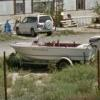Boat: (7, 32, 91, 69)
